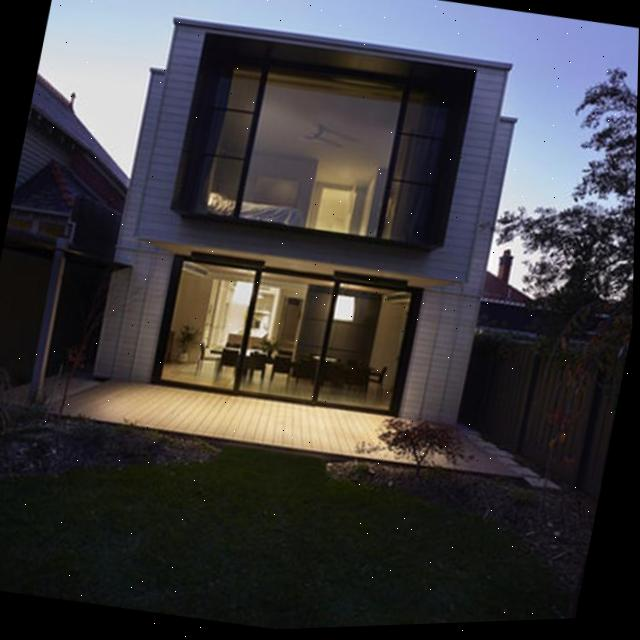building: (90, 0, 529, 440), (0, 67, 145, 377)
